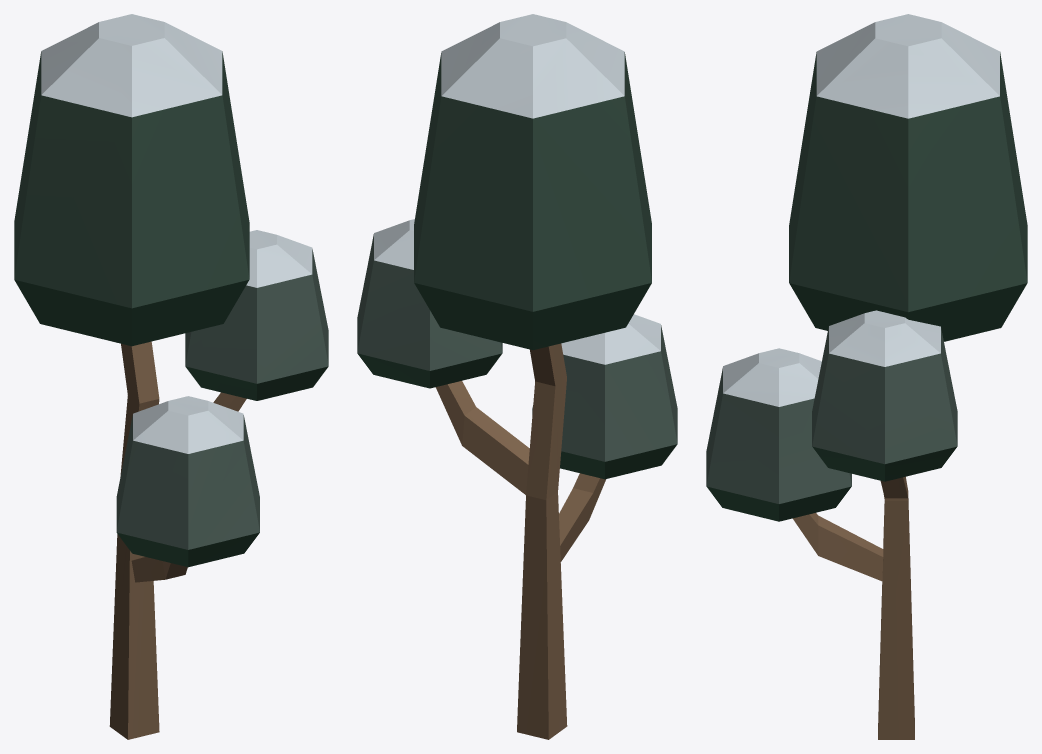
The model's file is tree_thin.glb.
3 renders of one model, left to right at view 1: azimuth 30°, elevation 25°; view 2: azimuth 150°, elevation 25°; view 3: azimuth 270°, elevation 25°, orthographic.
Visible parts, largest first — view 1: tree_thin; view 2: tree_thin; view 3: tree_thin.
Boxes of the visible parts, box(x1,y1,x2,y2) form: tree_thin: box(14, 14, 328, 739); tree_thin: box(357, 14, 677, 739); tree_thin: box(706, 14, 1027, 739).
Bounding box in the file's own units: 0.6804 × 1.49 × 0.6165.
